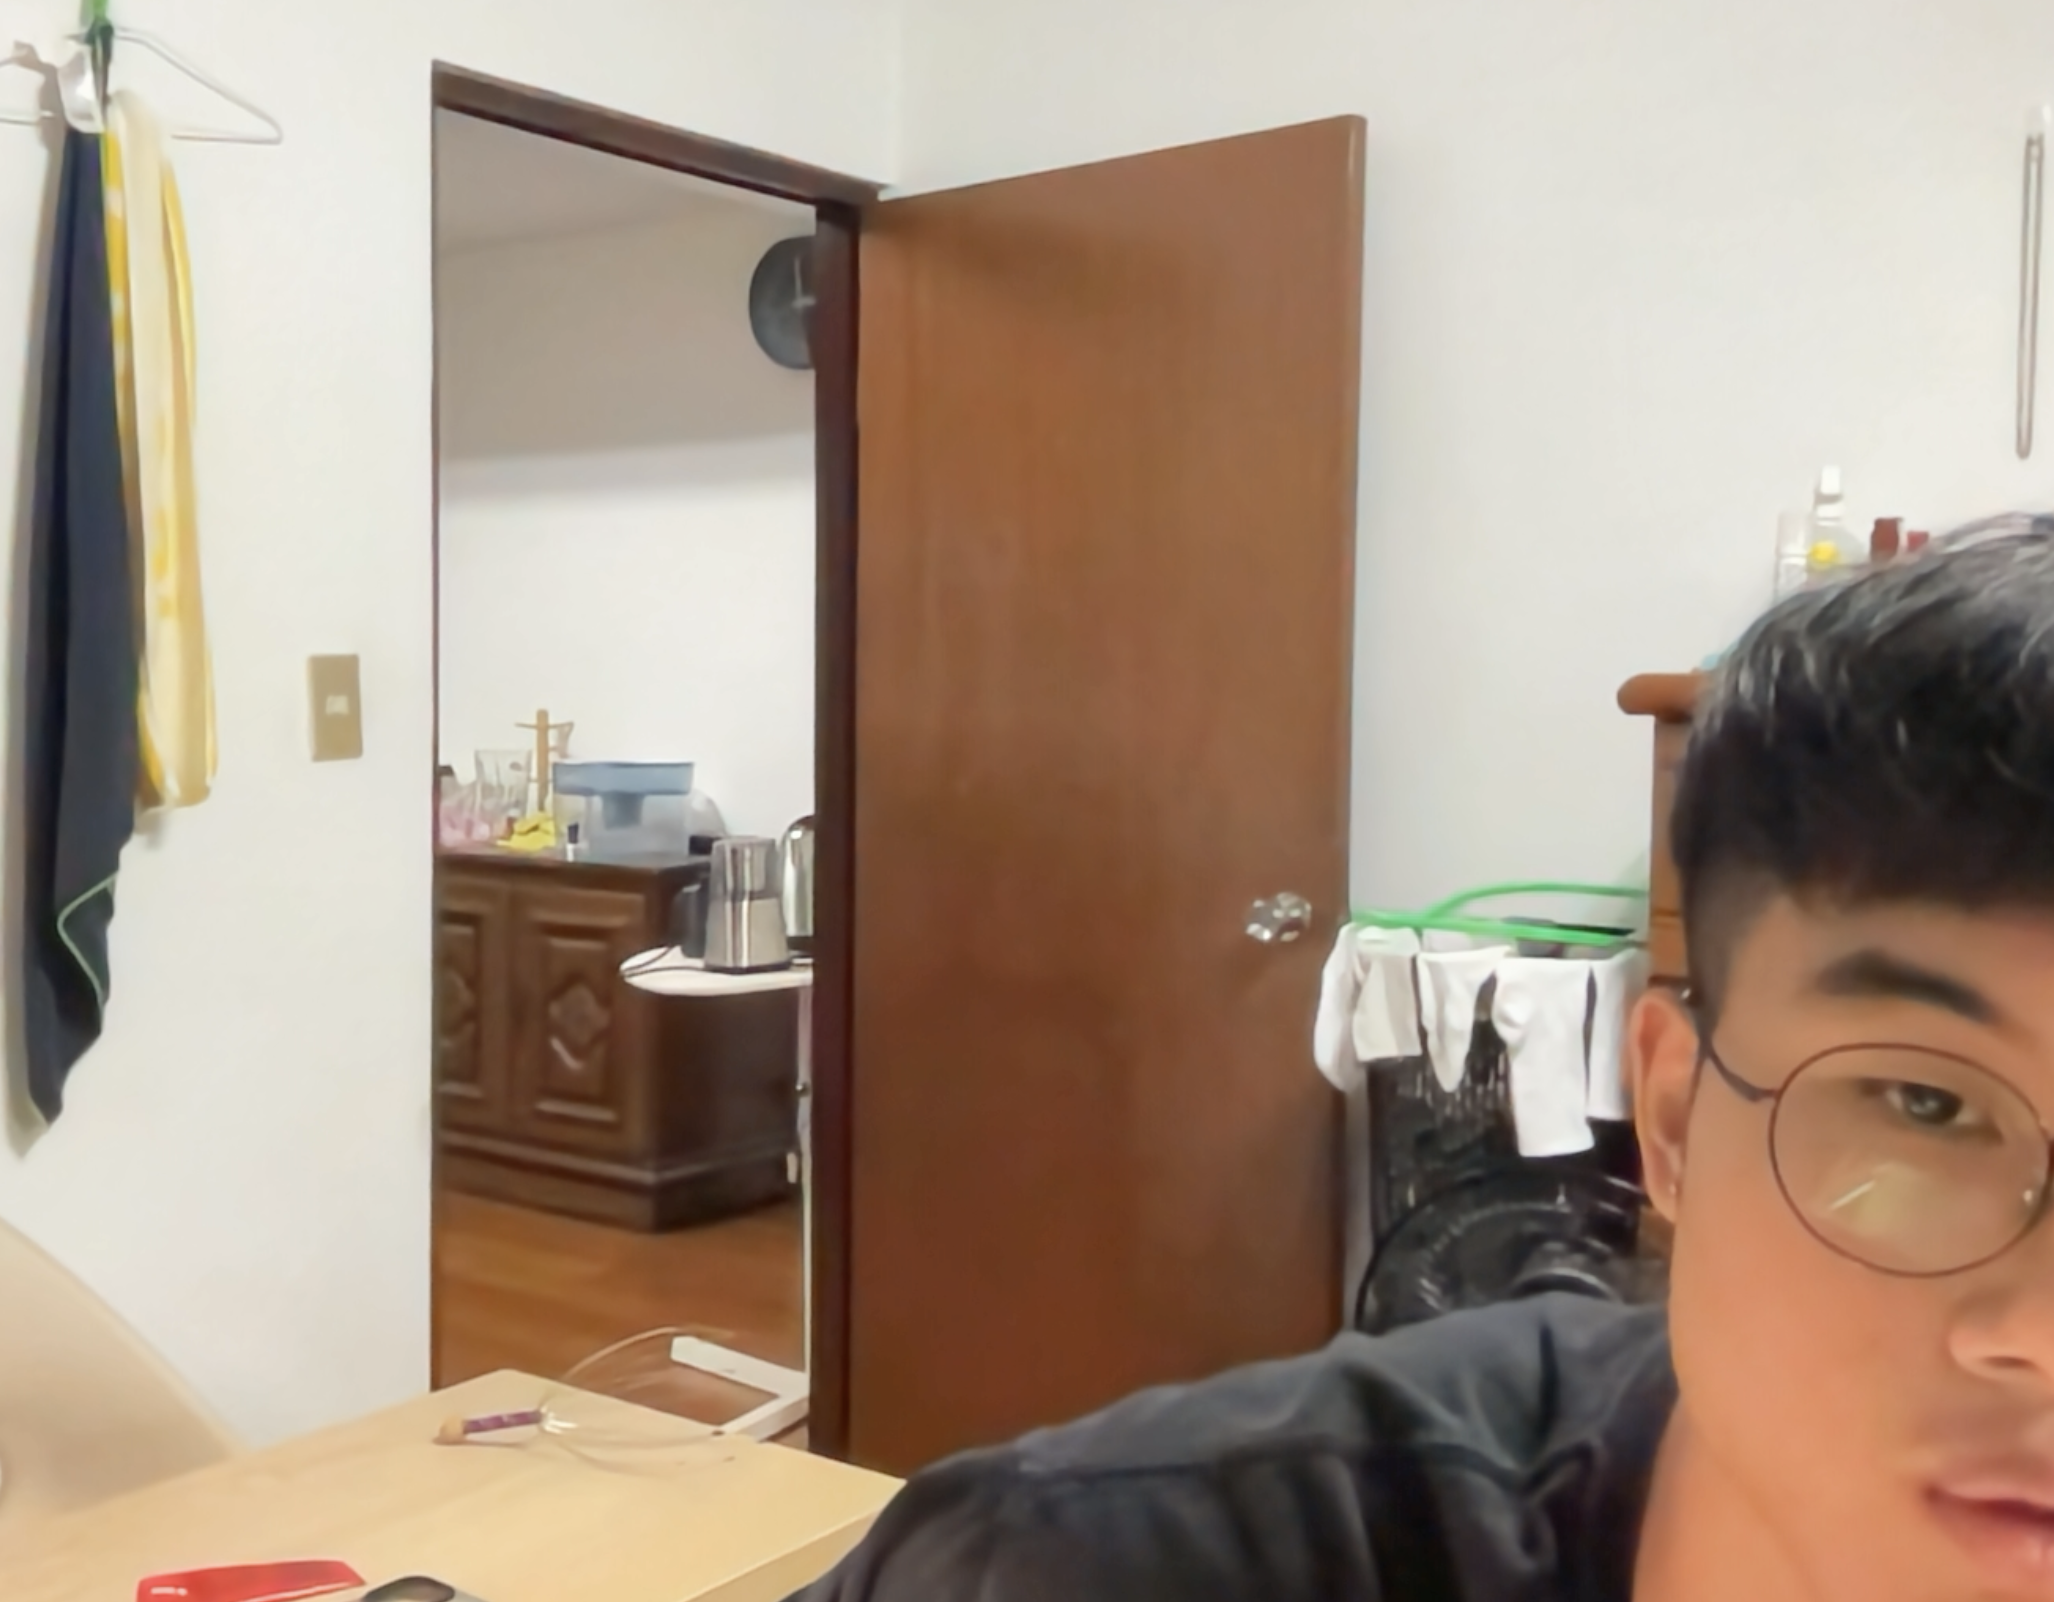Door Open: (357, 73, 1054, 1414)
